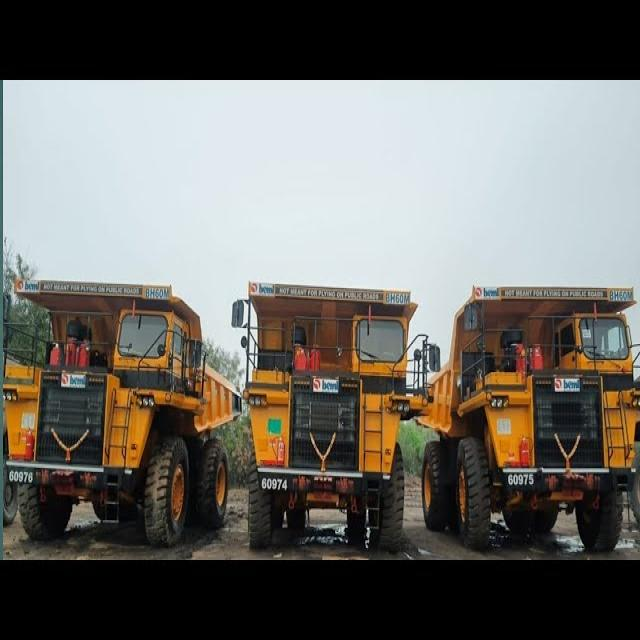dump_truck: (3, 278, 224, 553), (428, 280, 640, 555), (226, 272, 418, 550)
